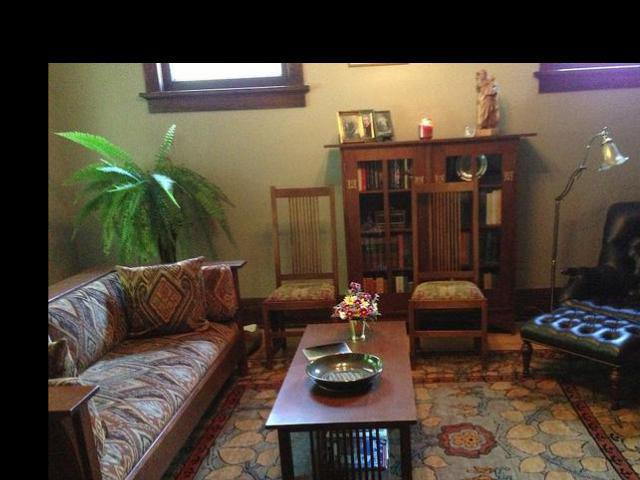Matera: (81, 125, 236, 361)
